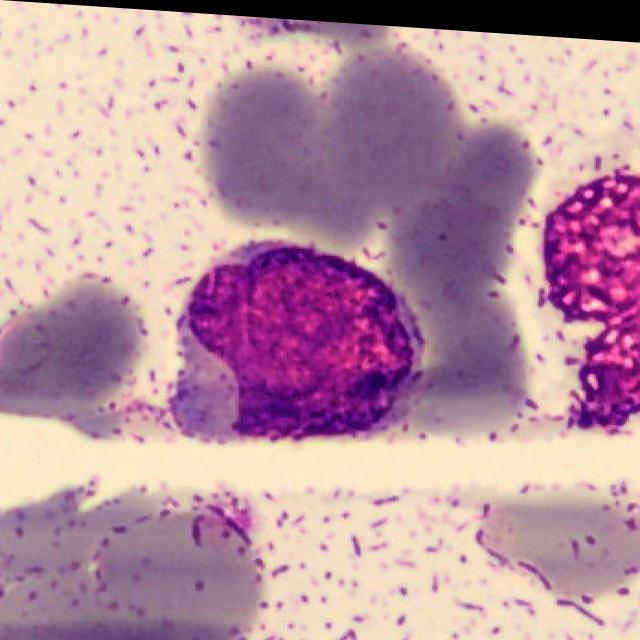Mieloblasto: (171, 238, 425, 441)
